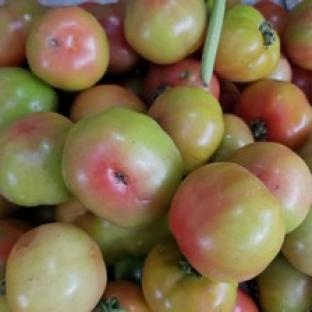Tomato: (62, 106, 183, 228), (169, 162, 284, 281), (6, 222, 107, 311), (230, 143, 311, 232), (27, 6, 108, 90), (0, 112, 72, 206), (148, 85, 224, 174), (143, 240, 236, 311), (236, 78, 311, 149), (215, 3, 279, 82), (74, 214, 171, 264), (144, 56, 220, 105), (0, 67, 59, 128), (257, 254, 311, 311), (70, 84, 147, 122), (209, 113, 254, 161), (282, 209, 311, 275), (0, 218, 30, 281), (92, 280, 151, 311), (113, 253, 147, 284), (292, 63, 311, 103), (267, 53, 292, 82), (233, 287, 259, 311)
